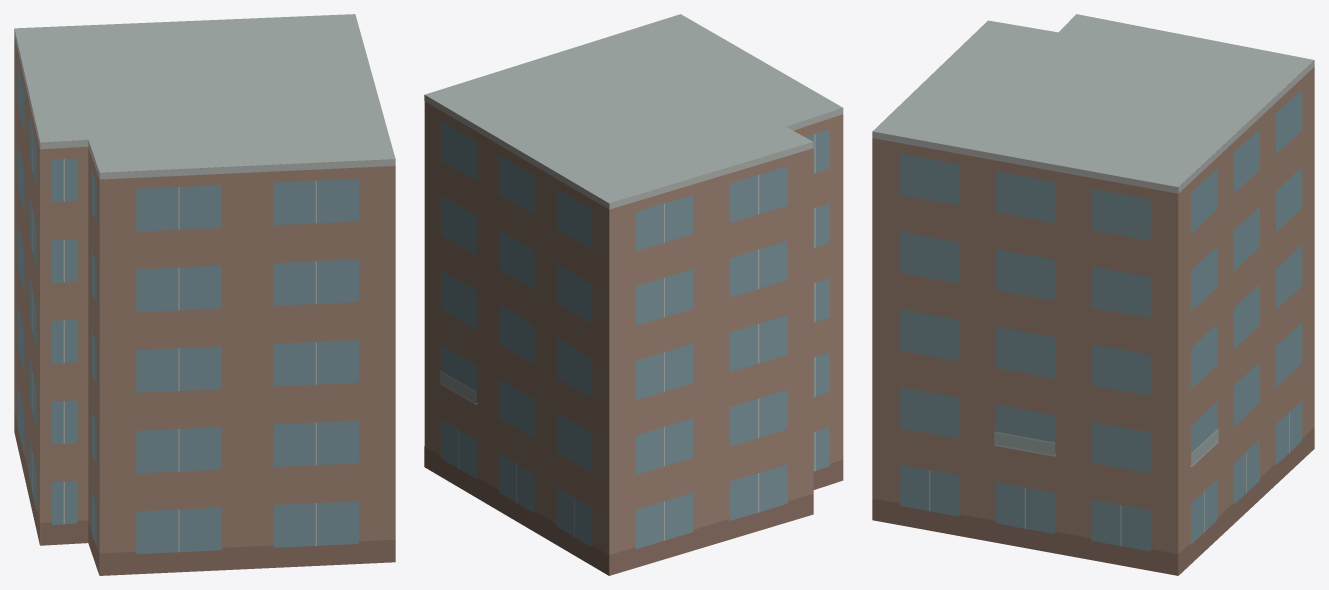
The model's file is survey-upis-32989070.glb.
The picture shows the model from 3 angles, left to right: view 1: azimuth 30°, elevation 25°; view 2: azimuth 150°, elevation 25°; view 3: azimuth 270°, elevation 25°; orthographic projection. The views are drawn at different scales.
Parts seen in each view (by area): view 1: survey-upis-32989070.tmp; view 2: survey-upis-32989070.tmp; view 3: survey-upis-32989070.tmp.
Part boxes in pixels (<box>): survey-upis-32989070.tmp: <box>14,14,395,575</box>; survey-upis-32989070.tmp: <box>424,14,843,575</box>; survey-upis-32989070.tmp: <box>872,14,1314,575</box>.
Size of the model in its own units: 13.82 by 14.45 by 14.91.
